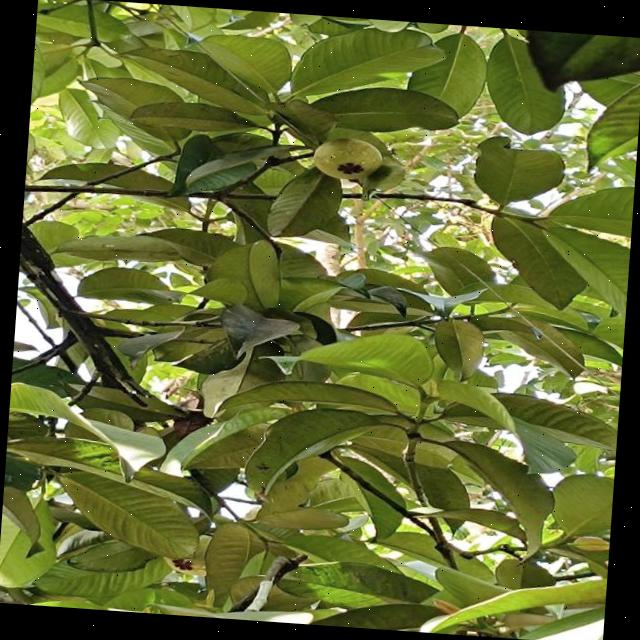mangosteen: (300, 128, 410, 198)
